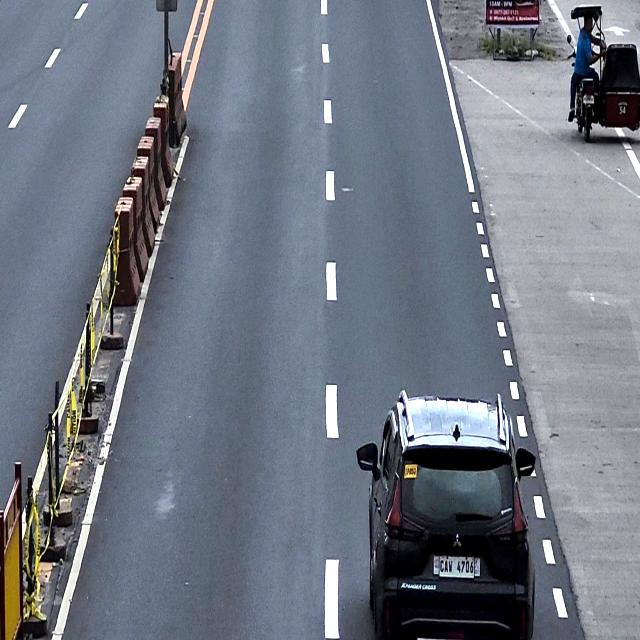Car: (356, 389, 536, 639)
License-Plate: (432, 552, 481, 579), (582, 92, 594, 106)
Tricycle: (566, 4, 639, 142)
